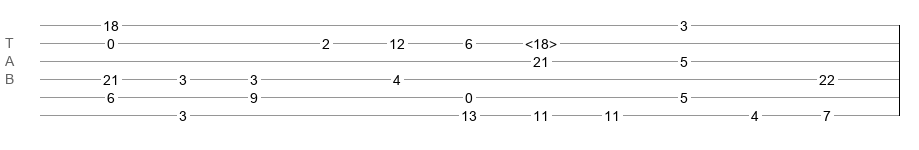0: (107, 36, 115, 46), (465, 90, 473, 100)
11: (533, 108, 549, 118), (604, 108, 620, 118)
12: (389, 36, 405, 46)
13: (461, 108, 477, 118)
18: (103, 18, 119, 28)
2: (322, 36, 330, 46)
21: (103, 72, 119, 82), (533, 54, 549, 64)
22: (819, 72, 835, 82)
3: (179, 72, 187, 82), (179, 108, 187, 118), (250, 72, 258, 82), (680, 18, 688, 28)
4: (393, 72, 401, 82), (751, 108, 759, 118)
5: (680, 54, 688, 64), (680, 90, 688, 100)
6: (107, 90, 115, 100), (465, 36, 473, 46)
7: (823, 108, 831, 118)
9: (250, 90, 258, 100)
harmonic: (525, 36, 557, 46)
